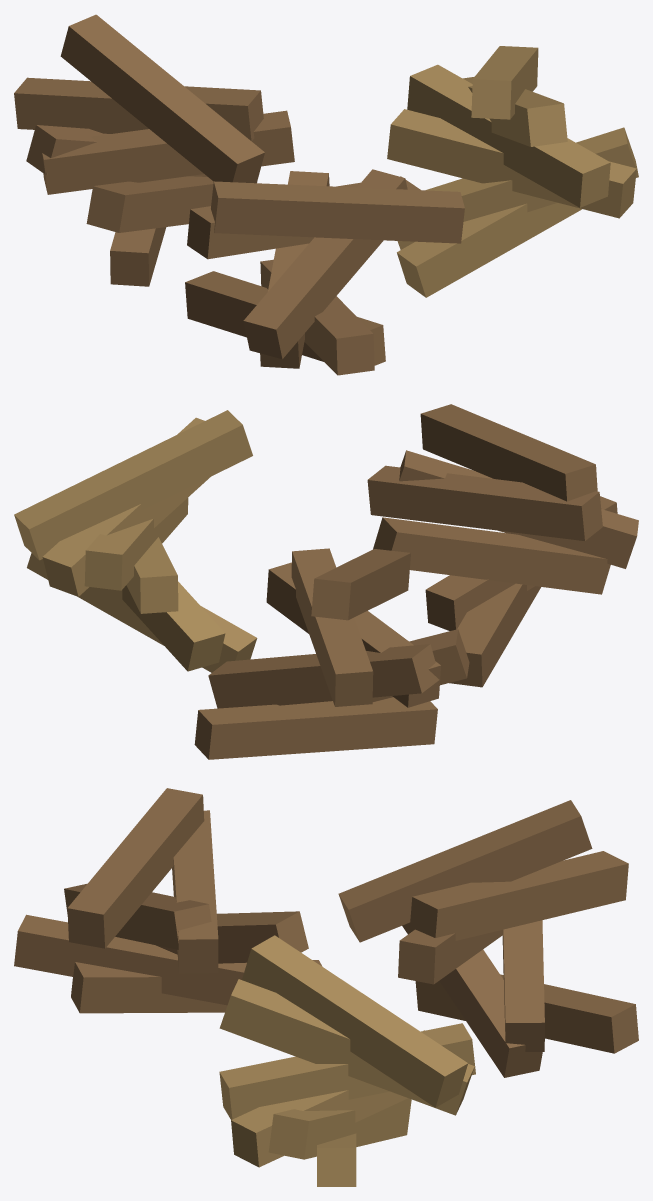
The model's file is prop_gamcho_pile.glb.
The picture shows the model from 3 angles, top to bottom: view 1: azimuth 30°, elevation 25°; view 2: azimuth 150°, elevation 25°; view 3: azimuth 270°, elevation 25°; orthographic projection. The views are drawn at different scales.
Visible parts, largest first — view 1: prop_gamcho_pile; view 2: prop_gamcho_pile; view 3: prop_gamcho_pile.
Part boxes in pixels (<box>): prop_gamcho_pile: <box>14,14,638,375</box>; prop_gamcho_pile: <box>14,404,638,759</box>; prop_gamcho_pile: <box>14,788,638,1186</box>.
Bounding box in the file's own units: 0.3692 × 0.1672 × 0.3968.
